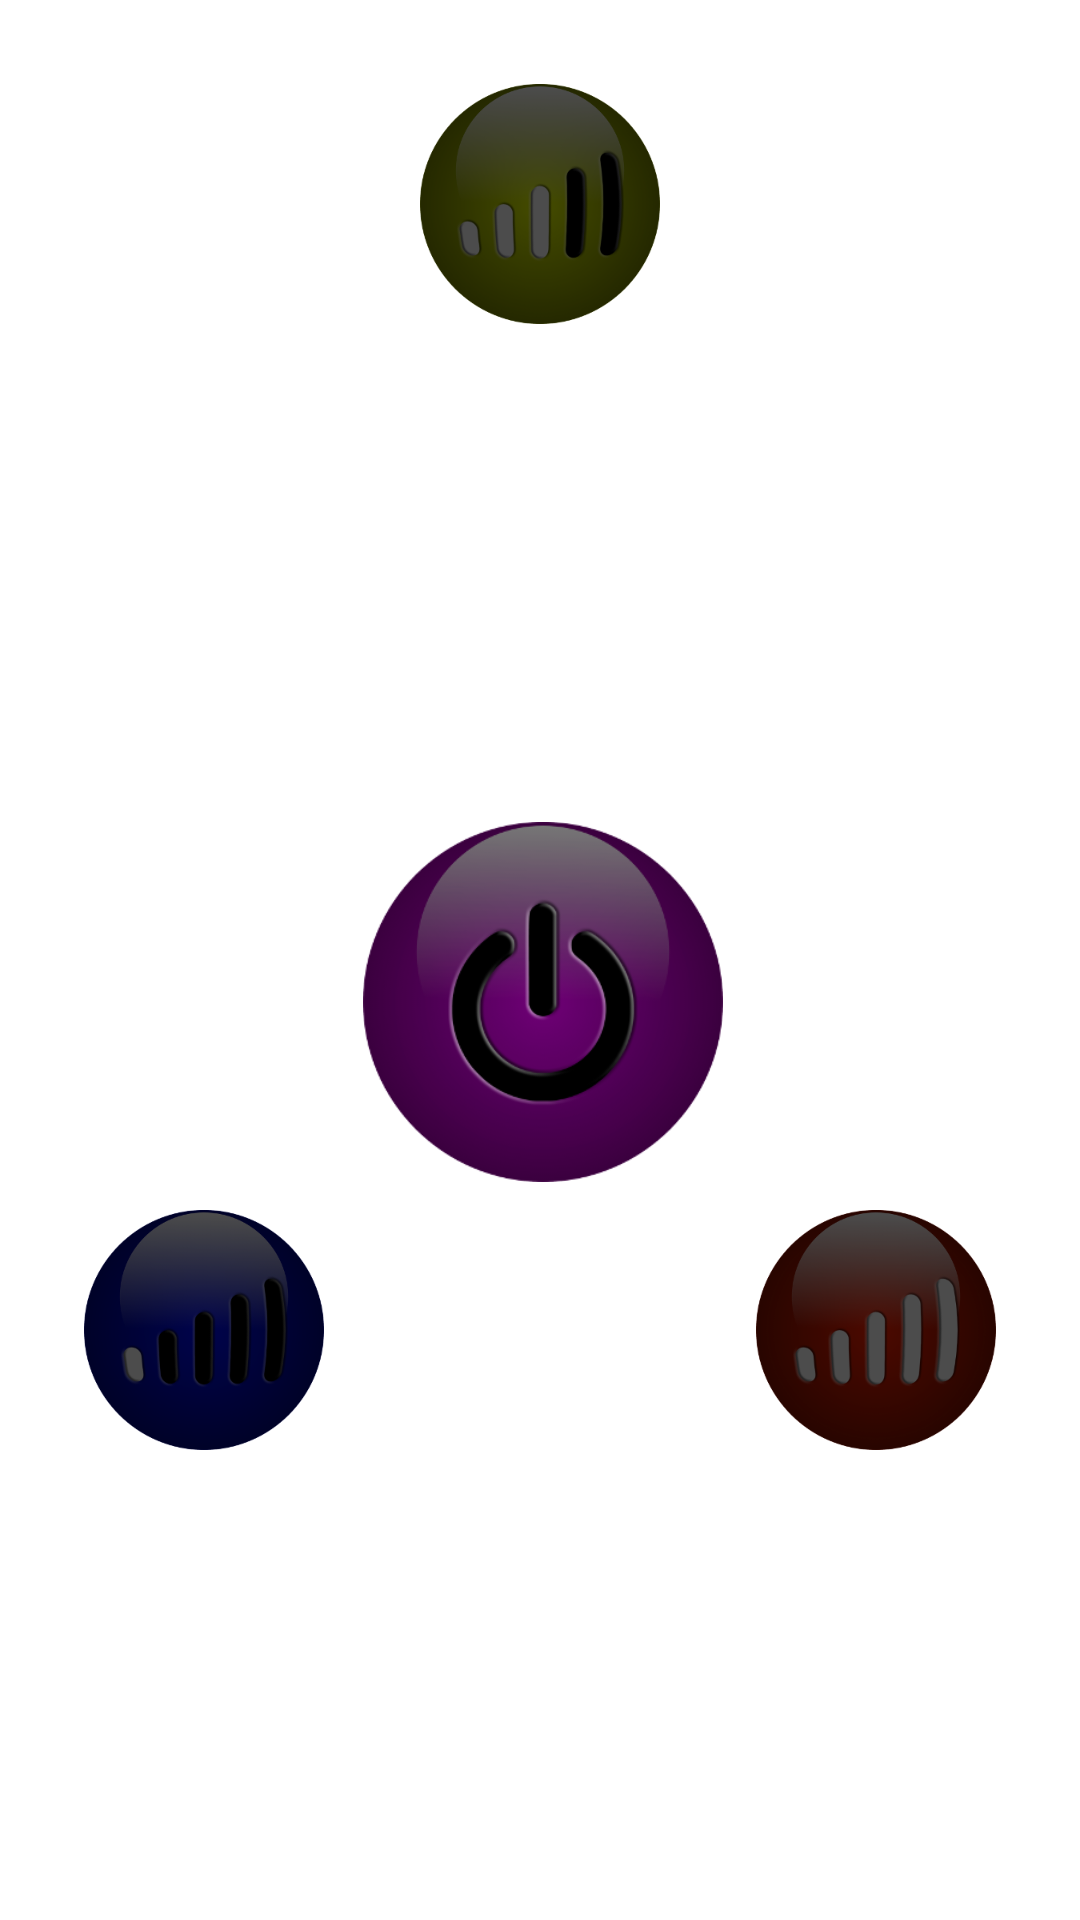

Screen size 1080 x 1920. Icon name, then its center in pixels as [x,y]:
poweroff: [543,1002]
